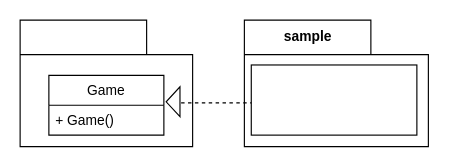
Some shapes in this 449 by 167 pixel diagram are drawn without their labels. The box of each missing label's shape, as (x1, y1, x2, y2) in pixels:
worldofzuul: (19, 19, 193, 147)
«interface» ZuulGame: (250, 64, 417, 135)
